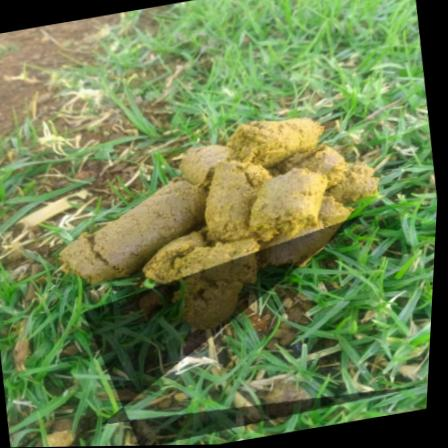dog-poop: (51, 108, 386, 315)
